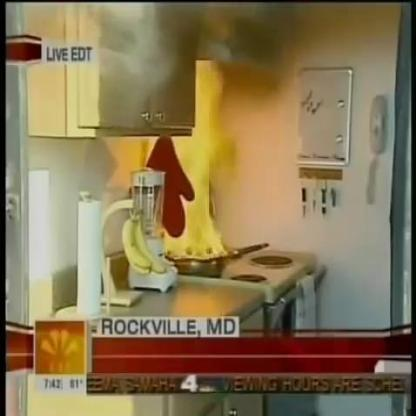fire: (148, 58, 230, 262)
